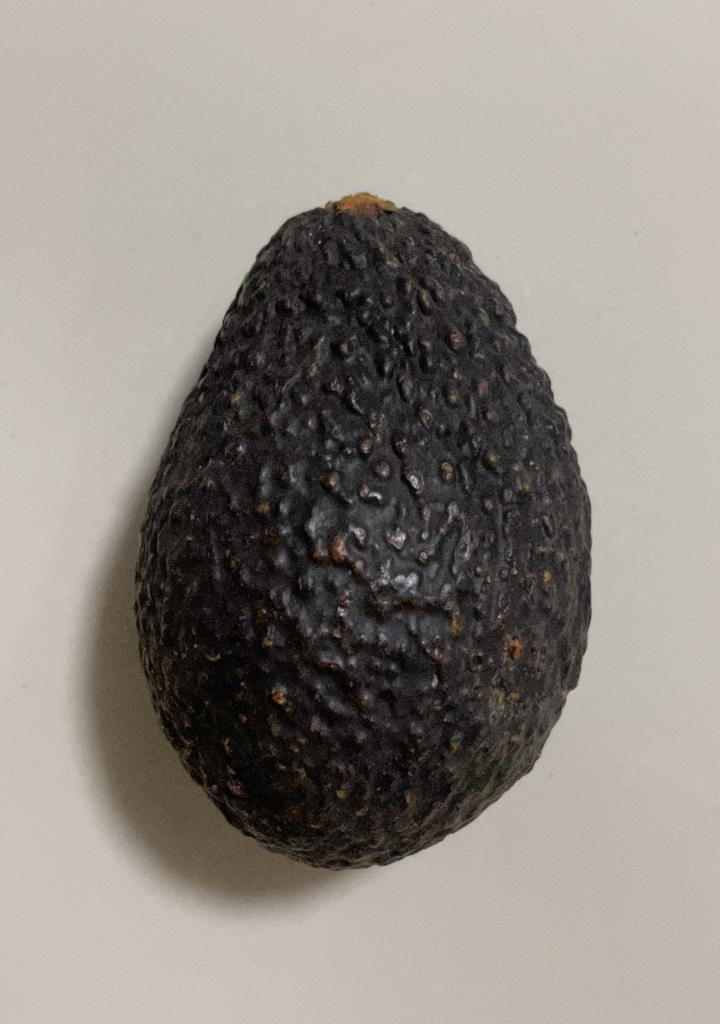Level2: (124, 176, 602, 884)
